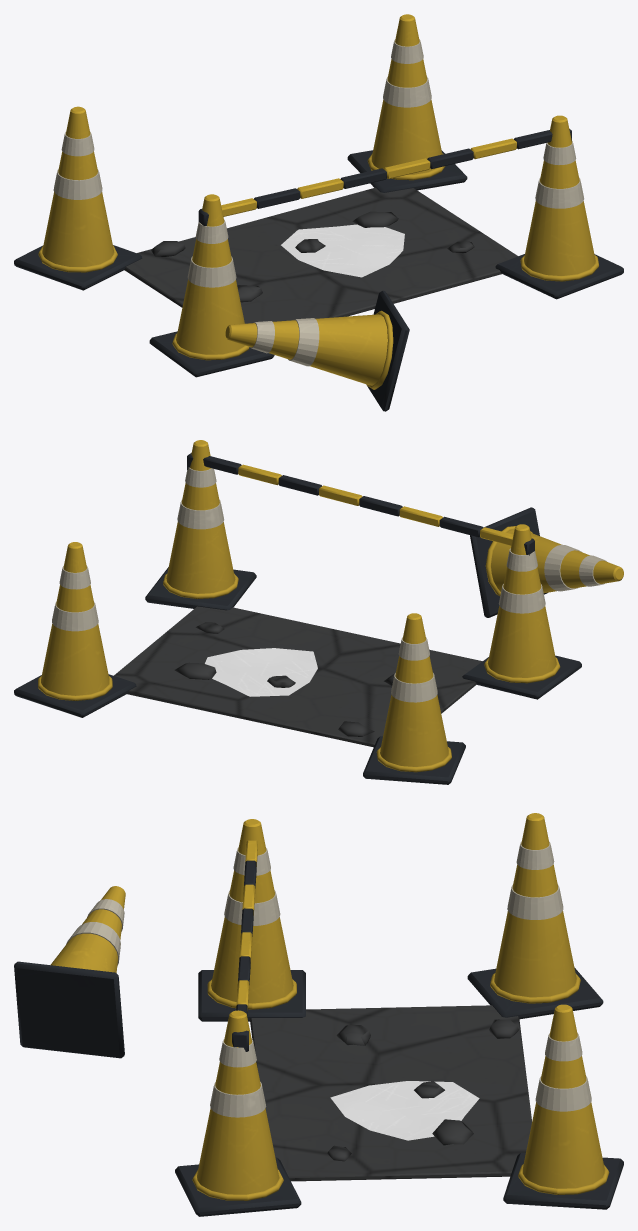
Rendered from road_cone_cluster.glb.
3 views of the same model, one above another, from view 1: azimuth 30°, elevation 25°; view 2: azimuth 150°, elevation 25°; view 3: azimuth 270°, elevation 25° (orthographic). The views are drawn at different scales.
Parts seen in each view (by area): view 1: road_cone_cluster; view 2: road_cone_cluster; view 3: road_cone_cluster.
Part boxes in pixels (<box>): road_cone_cluster: <box>14,14,623,411</box>; road_cone_cluster: <box>14,440,623,784</box>; road_cone_cluster: <box>14,813,623,1216</box>.
Size of the model in its own units: 2.11 by 0.7165 by 2.15.
Materials: 8 (8 with a texture image).
